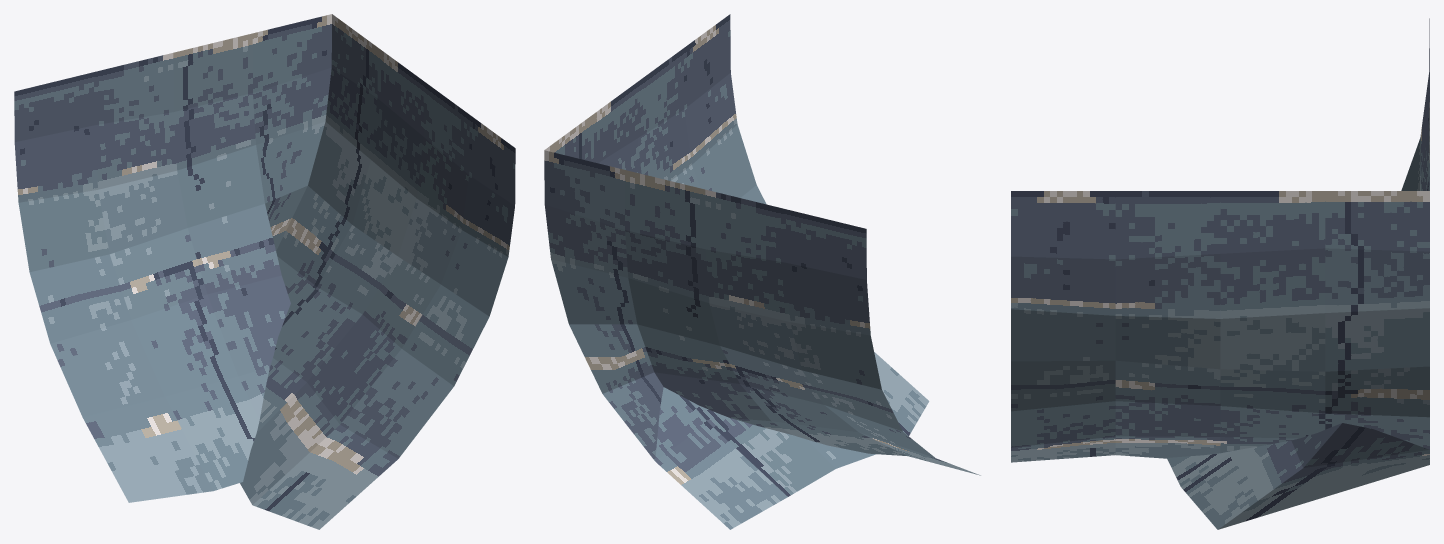
The model's file is TER-07_Escarpe_esq_int.gltf.
3 renders of one model, left to right at view 1: azimuth 30°, elevation 25°; view 2: azimuth 150°, elevation 25°; view 3: azimuth 270°, elevation 25°, orthographic. The views are drawn at different scales.
Visible parts, largest first — view 1: TER-07_Escarpe_esq_int-col; view 2: TER-07_Escarpe_esq_int-col; view 3: TER-07_Escarpe_esq_int-col.
Boxes of the visible parts, bbox=[...] form: TER-07_Escarpe_esq_int-col: bbox=[14, 14, 515, 529]; TER-07_Escarpe_esq_int-col: bbox=[544, 14, 980, 529]; TER-07_Escarpe_esq_int-col: bbox=[1011, 18, 1429, 529].
Bounding box in the file's own units: 2 × 2.03 × 2.
1 material, 1 textured.
